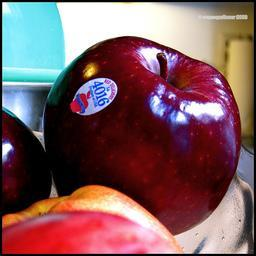apple: (42, 35, 248, 241), (2, 185, 185, 253)
